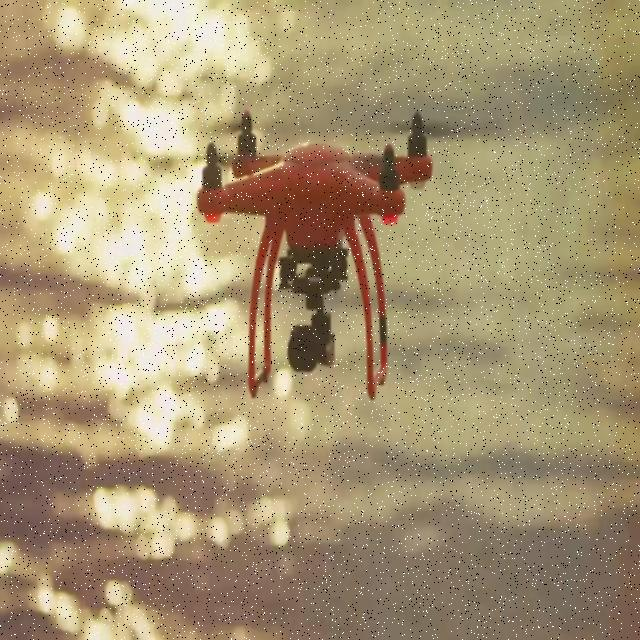UAV: (194, 106, 434, 399)
